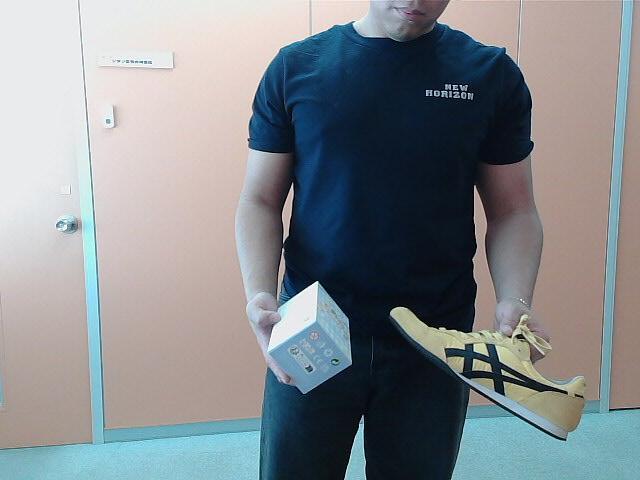Blind_box: (266, 278, 355, 394)
Shoes: (386, 305, 583, 442)
